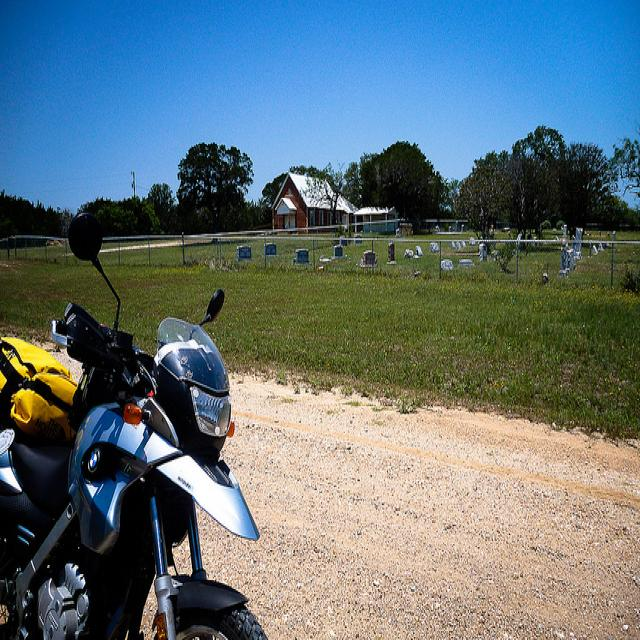motor: (2, 213, 269, 633)
